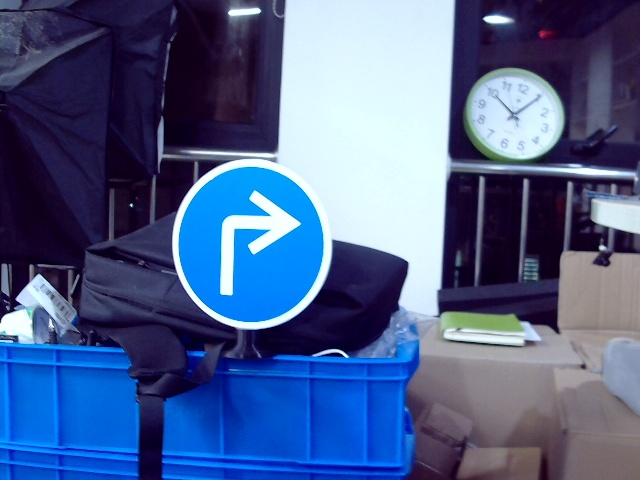turn_right: (207, 188, 300, 294)
